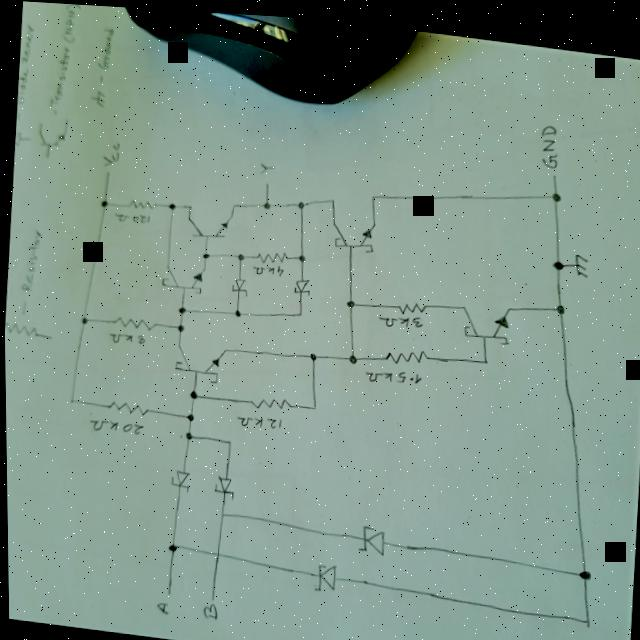crossover: (209, 546, 218, 558)
diode: (351, 519, 386, 555), (309, 556, 338, 591), (165, 463, 190, 492), (209, 471, 234, 499), (228, 273, 249, 295), (290, 273, 309, 293)
ground: (569, 245, 589, 273)
junction: (572, 560, 591, 577), (548, 250, 563, 266), (576, 608, 591, 624), (547, 183, 560, 197), (164, 539, 177, 552), (551, 296, 564, 309), (344, 348, 356, 361), (184, 387, 196, 399), (304, 347, 316, 359), (179, 428, 191, 440), (342, 294, 353, 306), (76, 313, 87, 325), (96, 197, 107, 209), (181, 410, 192, 421), (294, 249, 305, 260), (259, 196, 270, 207), (163, 199, 174, 210), (173, 320, 183, 332), (174, 303, 185, 313), (64, 396, 74, 406), (230, 306, 240, 315), (294, 197, 303, 207), (306, 400, 316, 409), (234, 250, 243, 259), (215, 508, 224, 517), (198, 249, 207, 258), (184, 201, 192, 210), (479, 352, 487, 360), (222, 436, 230, 443), (367, 189, 374, 196), (326, 194, 333, 200), (294, 308, 300, 314), (228, 200, 234, 206)
resistor: (380, 341, 426, 364), (108, 312, 155, 333), (245, 391, 290, 411), (103, 398, 147, 417), (250, 246, 287, 264), (392, 294, 425, 313), (122, 196, 155, 212)
terminal: (547, 164, 558, 175), (102, 168, 113, 179), (160, 587, 170, 598), (260, 178, 271, 186), (206, 593, 212, 600)
text: (361, 360, 420, 385), (83, 415, 143, 437), (536, 116, 559, 163), (95, 137, 123, 170), (374, 307, 422, 326), (232, 410, 280, 429), (110, 208, 152, 228), (104, 328, 145, 347), (249, 260, 284, 277), (198, 600, 215, 620), (255, 158, 274, 172), (152, 598, 167, 614)
transistor: (453, 294, 513, 343), (323, 208, 378, 253), (169, 341, 224, 379), (156, 257, 209, 295), (182, 206, 231, 244)
